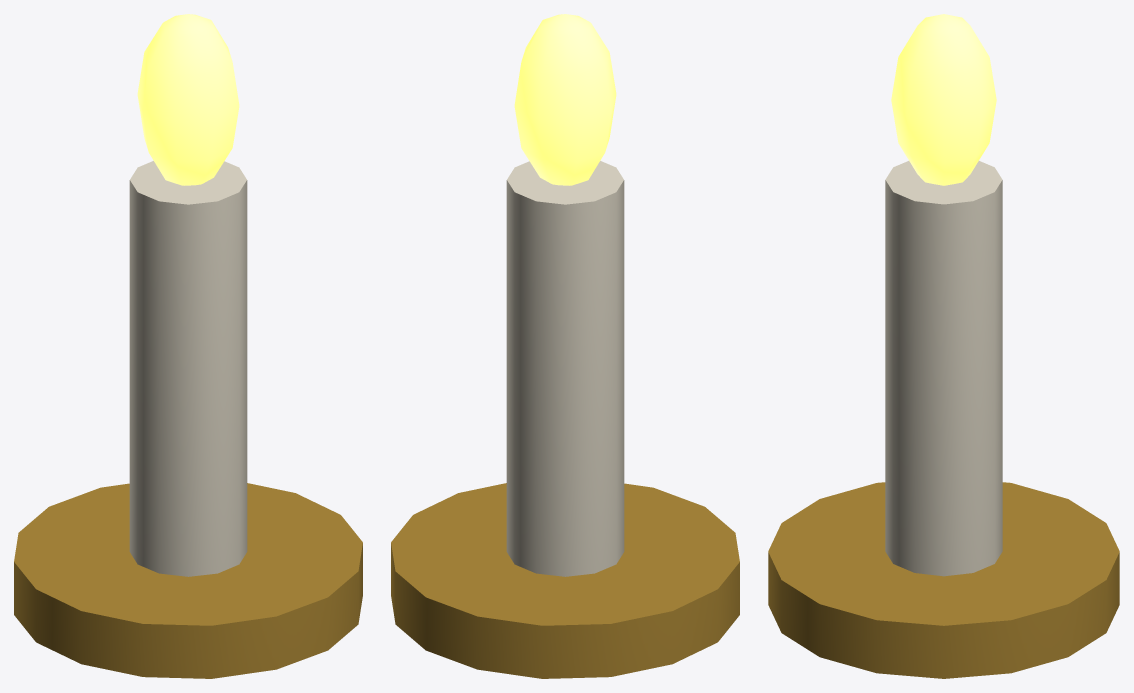
The model's file is candle.glb.
The picture shows the model from 3 angles, left to right: view 1: azimuth 30°, elevation 25°; view 2: azimuth 150°, elevation 25°; view 3: azimuth 270°, elevation 25°; orthographic projection.
Visible parts, largest first — view 1: anim-c-holder, anim-c-stick, anim-c-flame; view 2: anim-c-holder, anim-c-stick, anim-c-flame; view 3: anim-c-holder, anim-c-stick, anim-c-flame.
Part boxes in pixels (x1,y1,x2,y2): anim-c-holder: [14, 483, 362, 678]; anim-c-stick: [129, 161, 247, 576]; anim-c-flame: [137, 14, 239, 185]; anim-c-holder: [391, 483, 739, 678]; anim-c-stick: [506, 161, 624, 576]; anim-c-flame: [514, 14, 616, 185]; anim-c-holder: [768, 482, 1119, 678]; anim-c-stick: [885, 161, 1002, 576]; anim-c-flame: [891, 14, 996, 185].
Size of the model in its own units: 0.12 by 0.2224 by 0.12.
